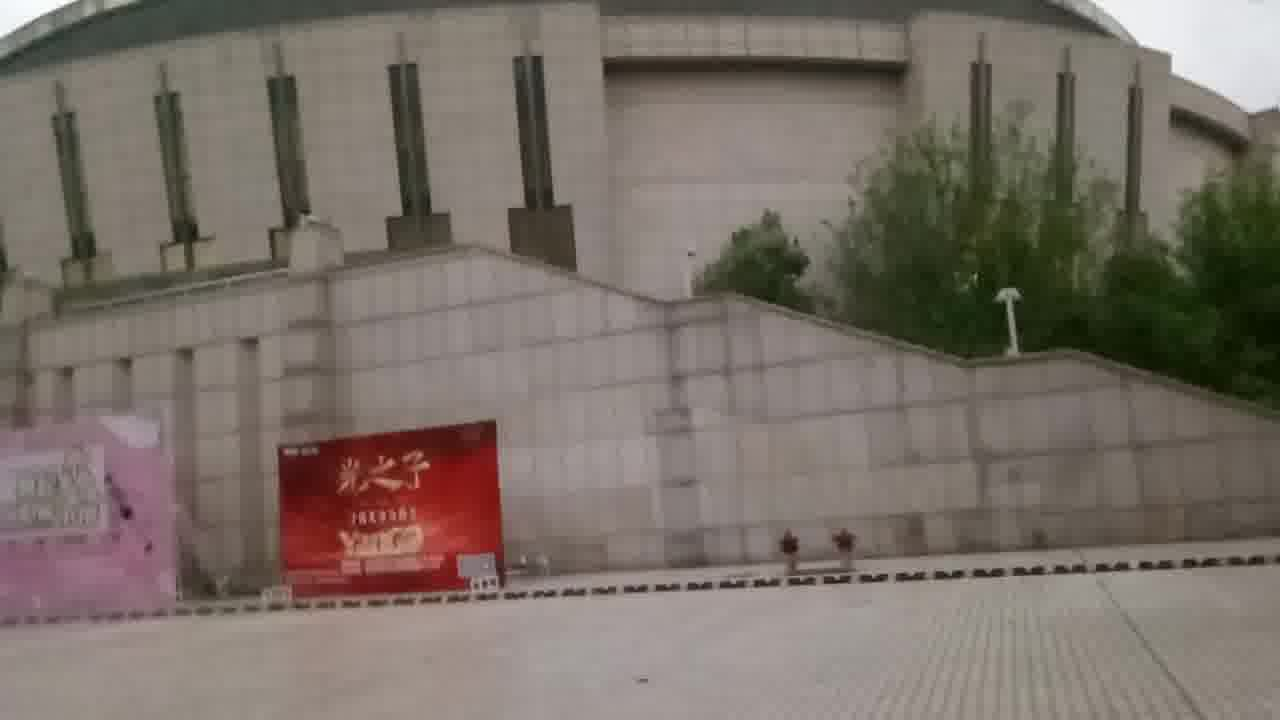zhongtiww: (6, 2, 1280, 599)
